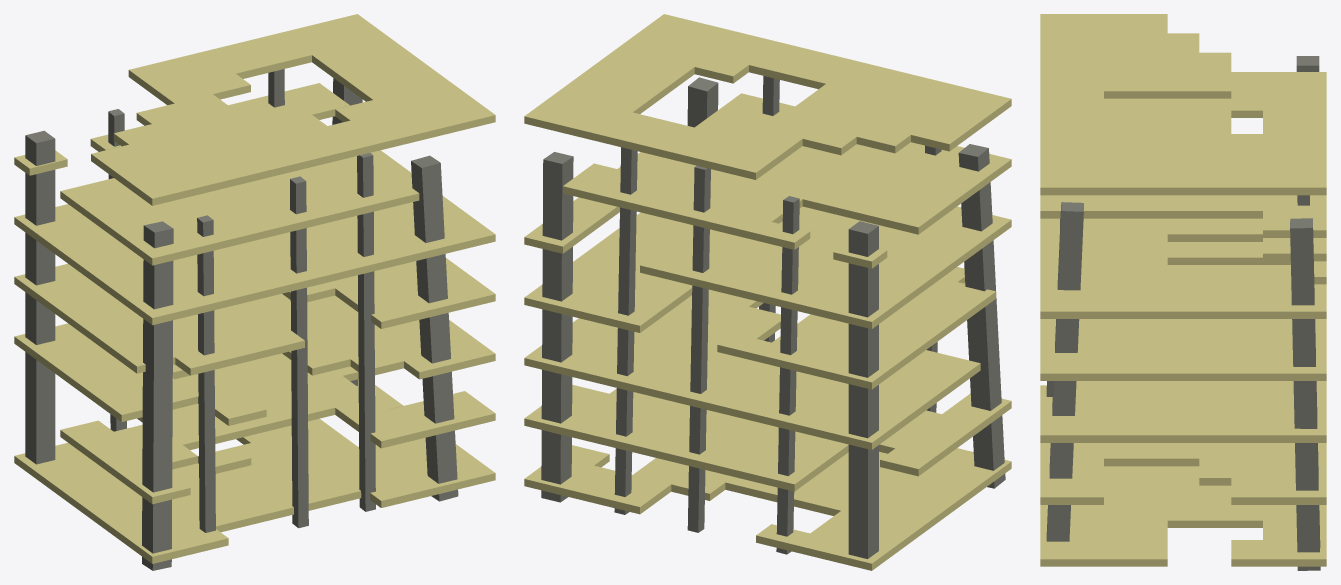
The model's file is house5.fbx.
The picture shows the model from 3 angles, left to right: view 1: azimuth 30°, elevation 25°; view 2: azimuth 150°, elevation 25°; view 3: azimuth 270°, elevation 25°; orthographic projection. The views are drawn at different scales.
Parts seen in each view (by area): view 1: 平面; view 2: 平面; view 3: 平面.
Boxes of the visible parts, box(x1,y1,x2,y2) form: 平面: box(14, 14, 495, 570); 平面: box(524, 14, 1011, 570); 平面: box(1040, 14, 1326, 570).
Bounding box in the file's own units: 799 × 837 × 557.
Materials: 1 (1 with a texture image).
